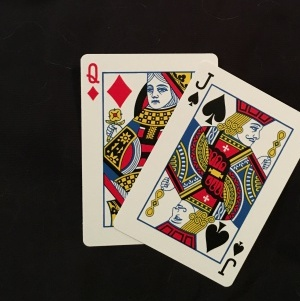card: (80, 54, 187, 247)
